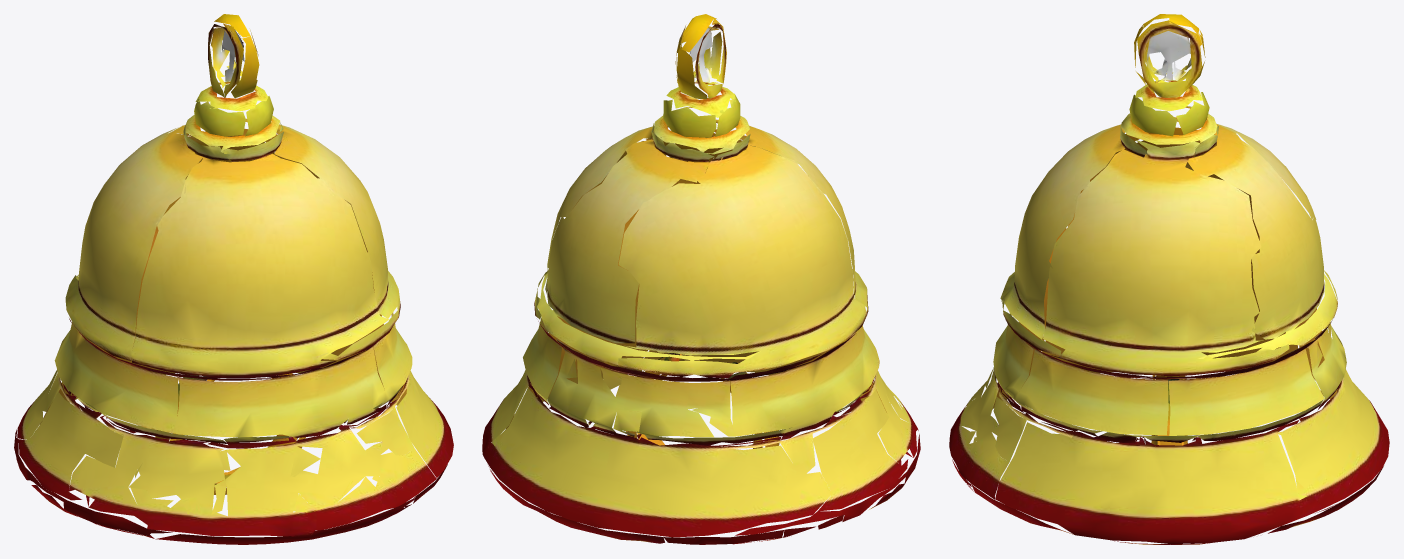
File: ses_cani_zil.glb
3 renders of one model, left to right at view 1: azimuth 30°, elevation 25°; view 2: azimuth 150°, elevation 25°; view 3: azimuth 270°, elevation 25°, orthographic.
Visible parts, largest first — view 1: geometry_0; view 2: geometry_0; view 3: geometry_0.
Boxes of the visible parts, <box> form: geometry_0: <box>14,14,453,544</box>; geometry_0: <box>482,14,920,544</box>; geometry_0: <box>949,14,1389,544</box>.
Size of the model in its own units: 0.8418 by 1 by 0.8403.
1 material, 1 textured.
